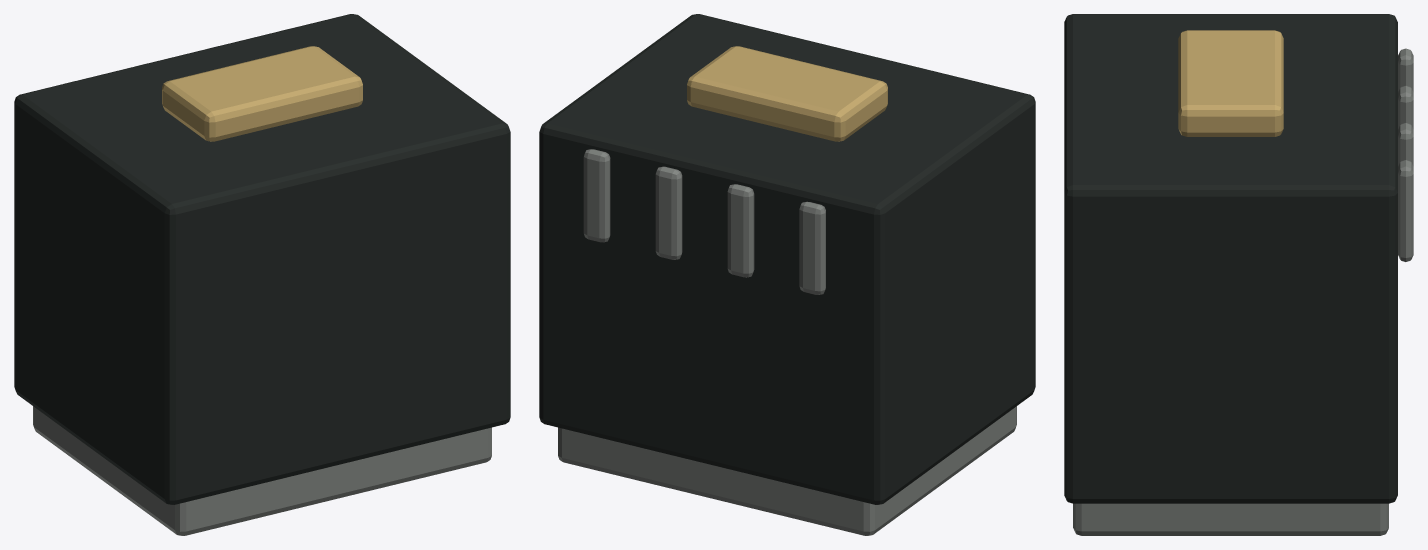
Rendered from noir-smoke-zone.glb.
The picture shows the model from 3 angles, left to right: view 1: azimuth 30°, elevation 25°; view 2: azimuth 150°, elevation 25°; view 3: azimuth 270°, elevation 25°; orthographic projection. The views are drawn at different scales.
Parts seen in each view (by area): view 1: lamp-enamel.005, fence-galvanized-steel.004, hazard-ivory.001; view 2: lamp-enamel.005, fence-galvanized-steel.004, hazard-ivory.001; view 3: lamp-enamel.005, fence-galvanized-steel.004, hazard-ivory.001.
Boxes of the visible parts, box(x1,y1,x2,y2) form: lamp-enamel.005: box(14, 14, 510, 504); fence-galvanized-steel.004: box(33, 29, 491, 535); hazard-ivory.001: box(162, 46, 362, 141); lamp-enamel.005: box(539, 14, 1035, 504); fence-galvanized-steel.004: box(558, 149, 1016, 535); hazard-ivory.001: box(687, 46, 887, 141); lamp-enamel.005: box(1064, 14, 1397, 503); fence-galvanized-steel.004: box(1073, 48, 1413, 535); hazard-ivory.001: box(1178, 30, 1283, 136).
Size of the model in its own units: 0.48 by 0.49 by 0.398.
